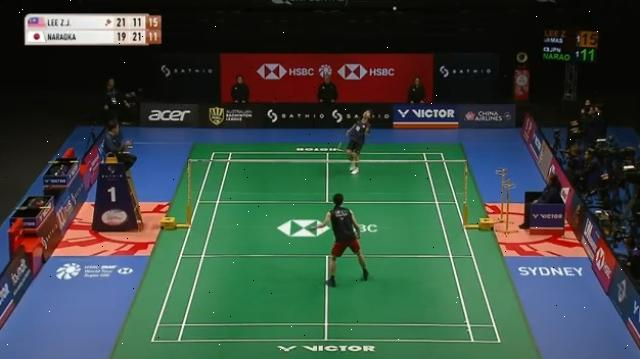Shuttlecock: (389, 3, 399, 14)
